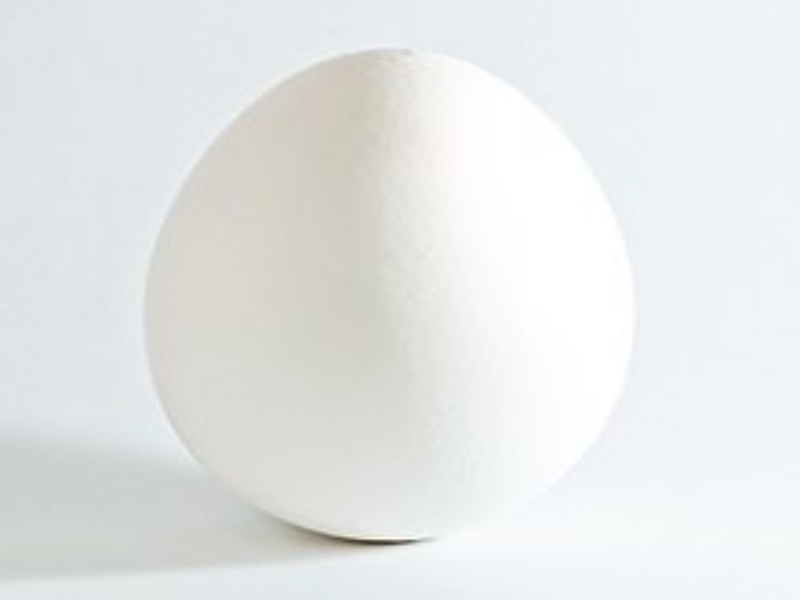Huevo: (146, 48, 634, 547)
